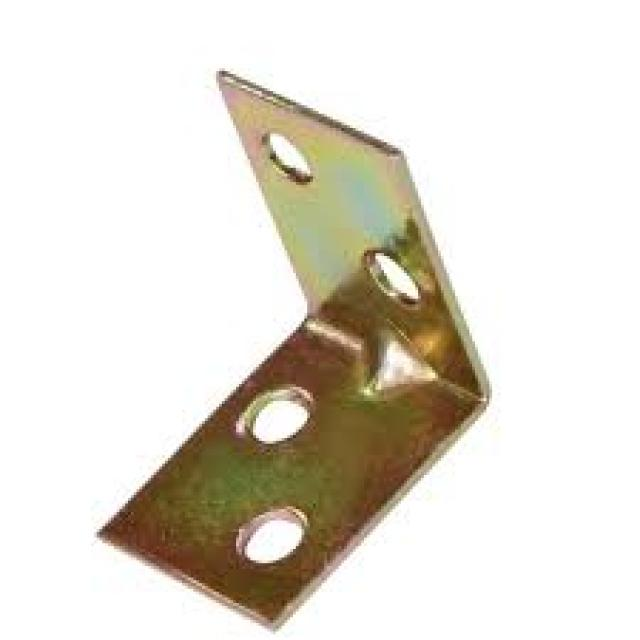holes: (233, 384, 313, 444), (233, 503, 307, 566), (361, 247, 421, 307), (259, 128, 313, 182)
